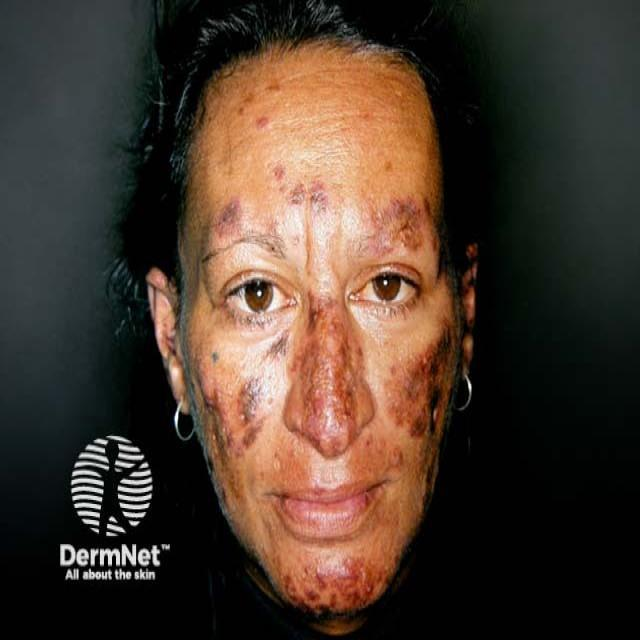lupus-detected: (296, 306, 408, 450), (184, 372, 292, 516), (202, 200, 474, 254), (285, 546, 415, 628), (388, 339, 482, 447), (217, 82, 351, 152)
